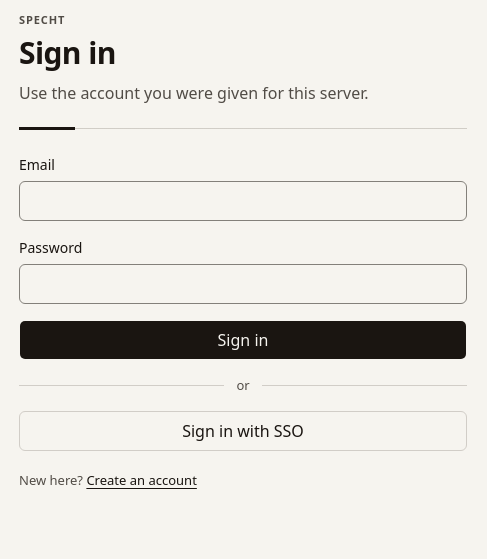
Login › while the server asks for a wait › shows the seconds from Retry-After and disables the button
Type "test@test.com" into the field labelled "Email" at (243, 201), box x1=19 y1=181 x2=467 y2=221
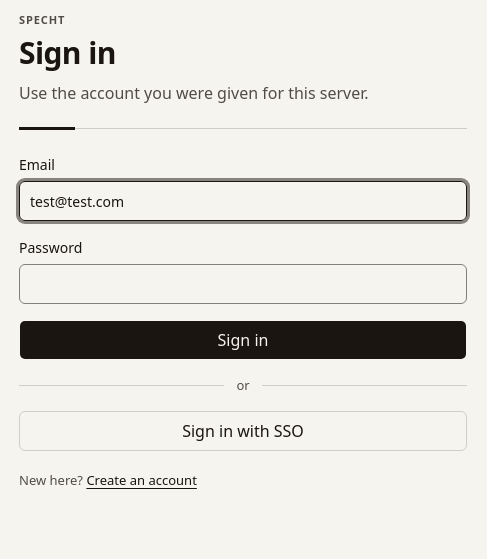
Type "test" into the password field labelled "Password" at (243, 284), box x1=19 y1=264 x2=467 y2=304
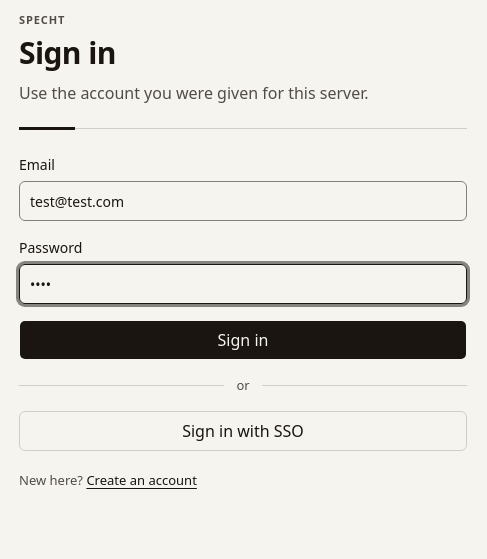
Click the button "Sign in" at (243, 340), box x1=19 y1=320 x2=467 y2=360
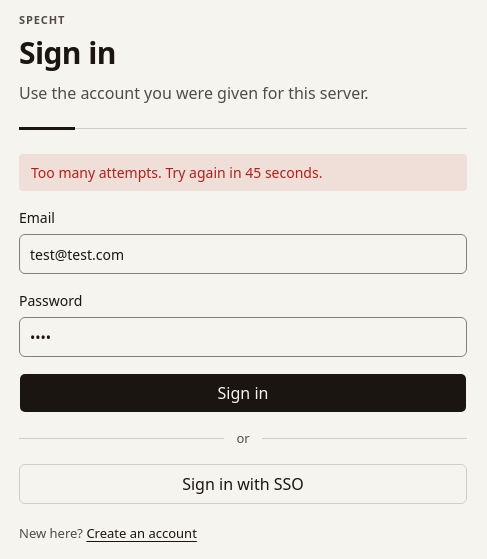
Expected: the text "Too many attempts. Try again in 45 seconds." is shown, x1=19 y1=154 x2=467 y2=191
Expected: the button "Sign in" is disabled, x1=19 y1=373 x2=467 y2=413
